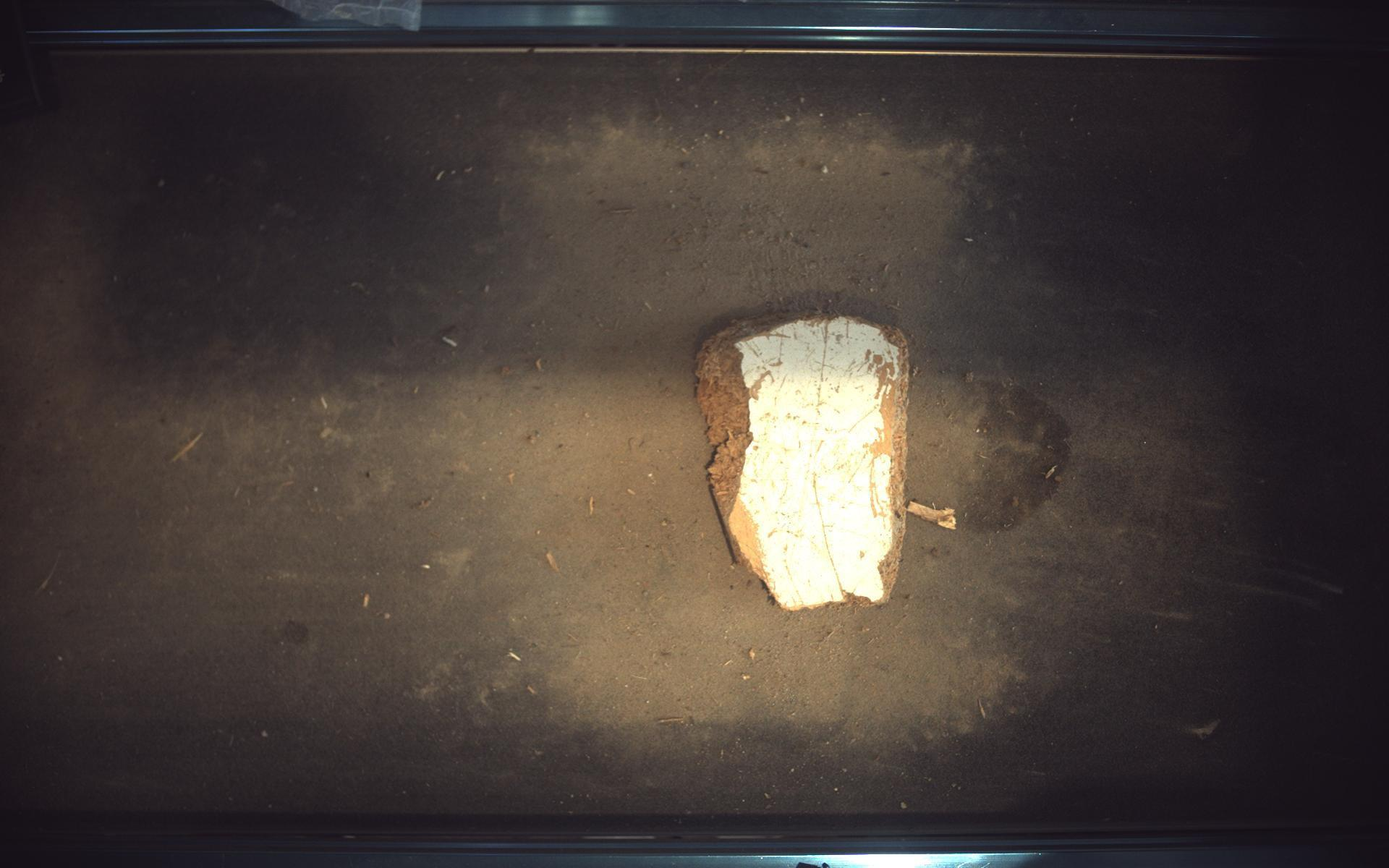wood: (699, 314, 911, 610)
